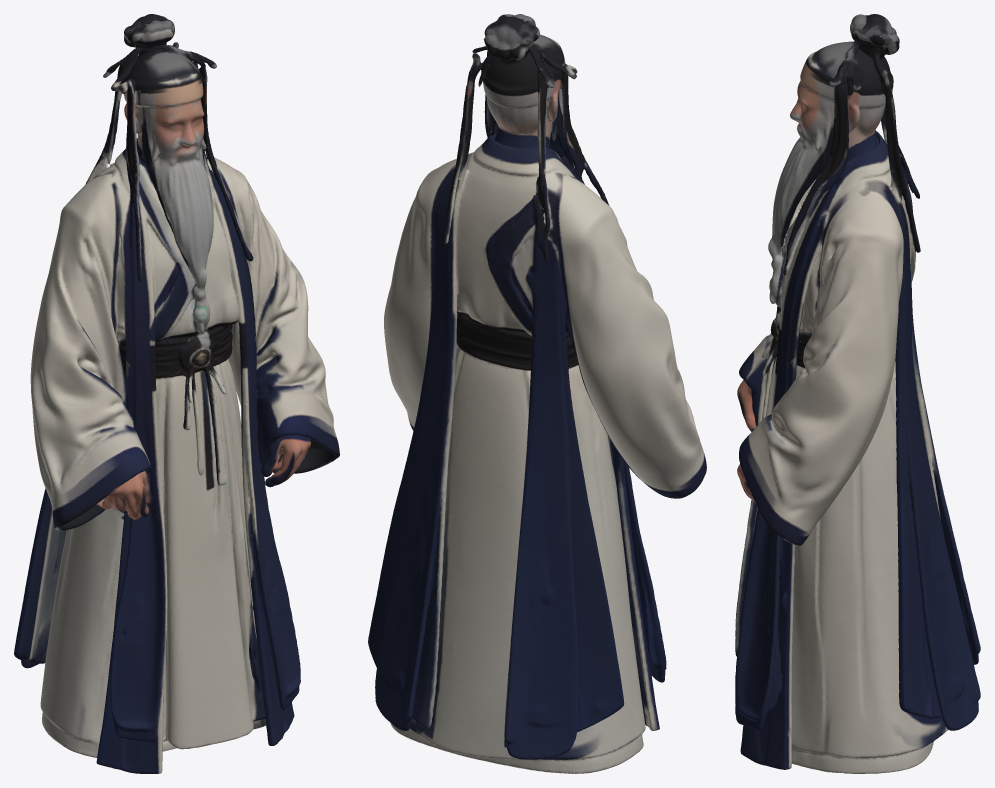
Rendered from painter_A_h25.glb.
3 views of the same model, side by side, from view 1: azimuth 30°, elevation 25°; view 2: azimuth 150°, elevation 25°; view 3: azimuth 270°, elevation 25° (orthographic). The views are drawn at different scales.
Parts seen in each view (by area): view 1: tripo_node_a681a3b0-79f3-42c5-b415-4f08bb59e61a; view 2: tripo_node_a681a3b0-79f3-42c5-b415-4f08bb59e61a; view 3: tripo_node_a681a3b0-79f3-42c5-b415-4f08bb59e61a.
Part boxes in pixels (x1,y1,x2,y2): tripo_node_a681a3b0-79f3-42c5-b415-4f08bb59e61a: [14, 14, 339, 773]; tripo_node_a681a3b0-79f3-42c5-b415-4f08bb59e61a: [368, 14, 706, 773]; tripo_node_a681a3b0-79f3-42c5-b415-4f08bb59e61a: [735, 14, 980, 773].
Size of the model in its own units: 0.4211 by 1 by 0.3128.
Materials: 1 (1 with a texture image).
